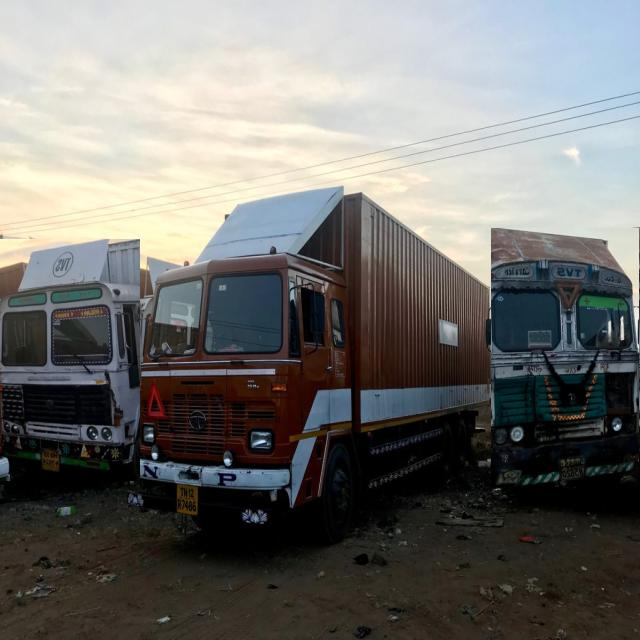truck: (130, 187, 490, 542), (491, 228, 640, 487), (0, 239, 140, 481)
